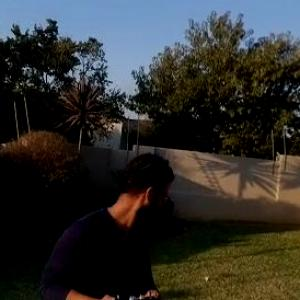follow: (32, 148, 178, 299)
